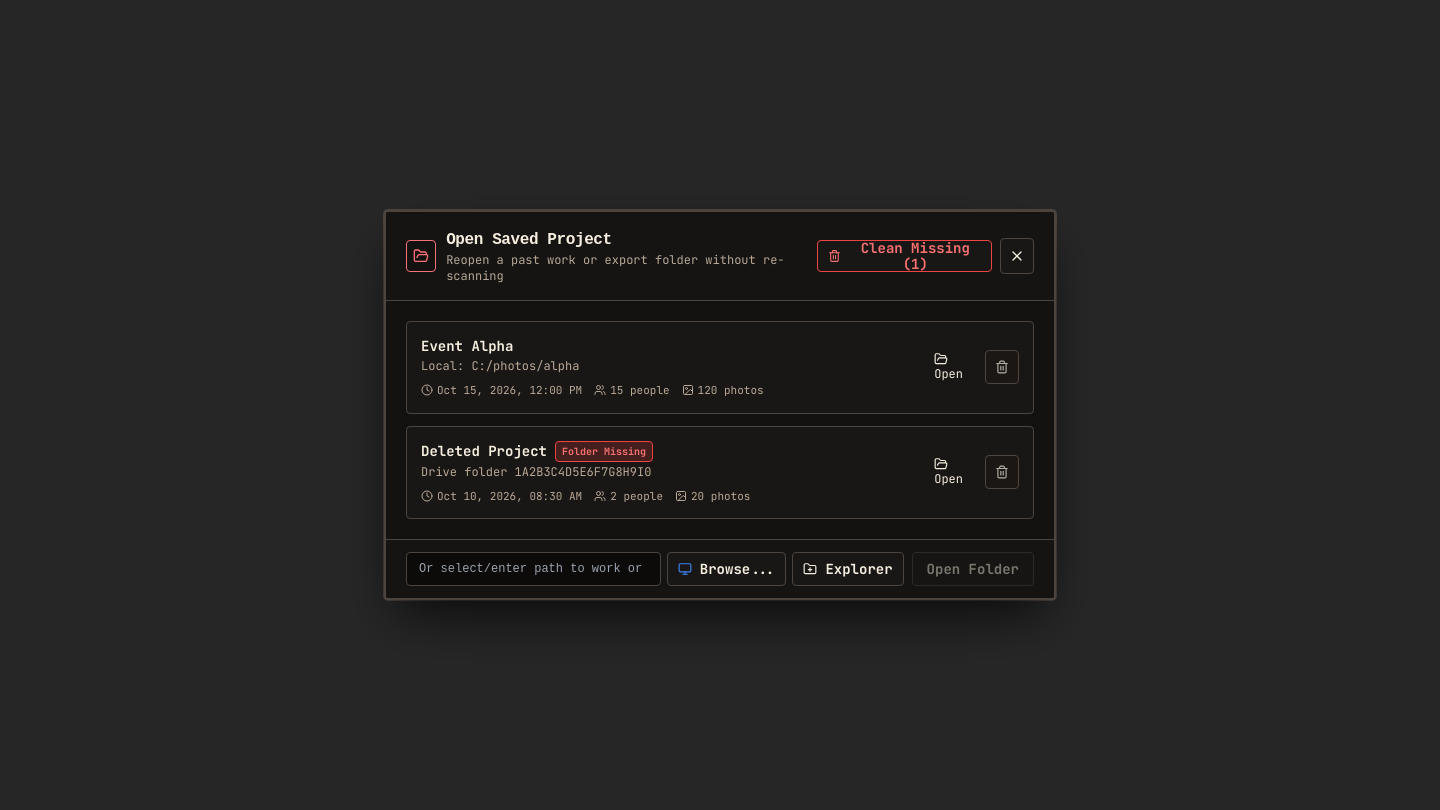
Test: Open Saved Project Feature › blocks opening project while a scan is running (409)
Expected: the text "Event Alpha" is shown, [421,336,513,356]
Step 1. Click the button with test id "open-project-btn-proj_01" → (949, 367), box [920,350,977,384]
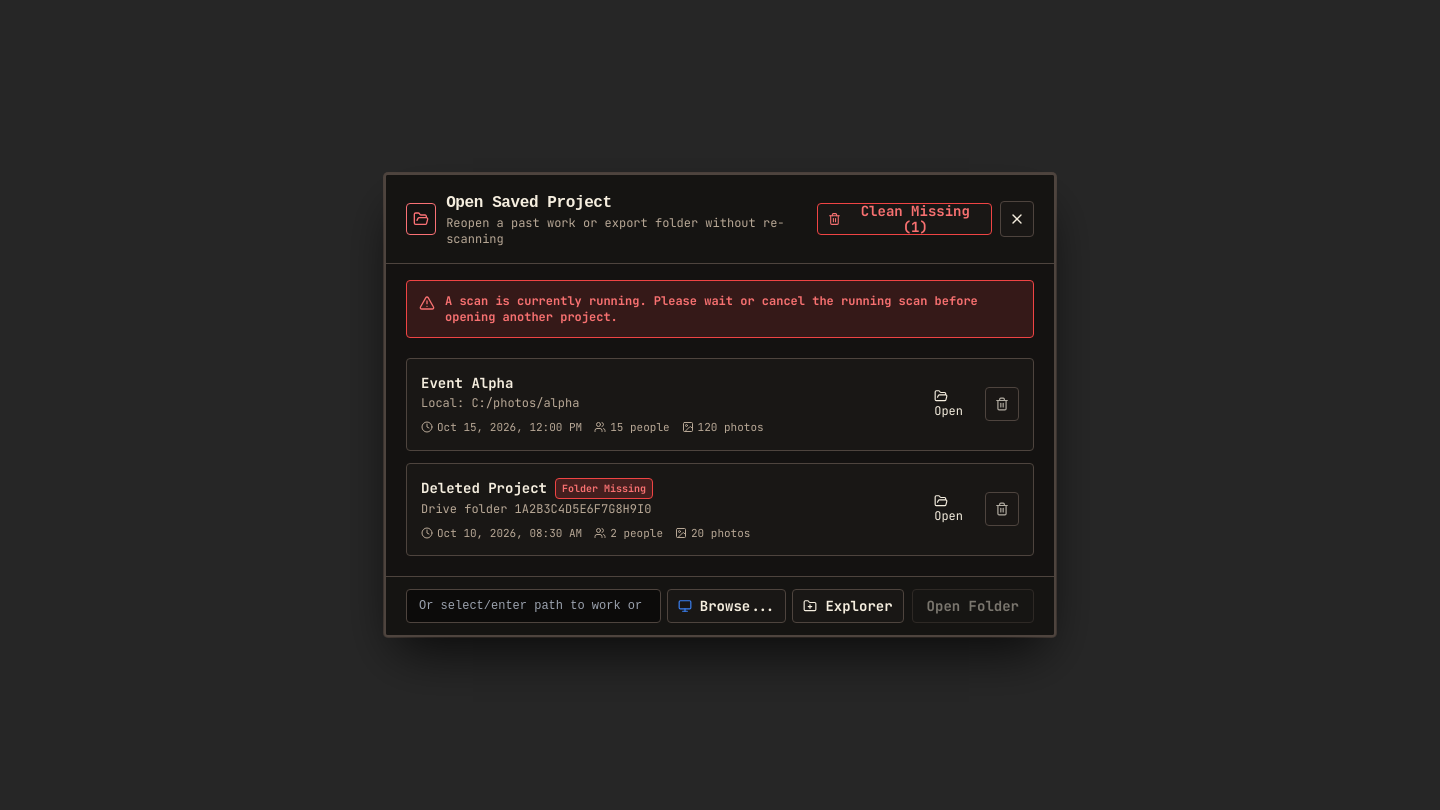
Now the text "A scan is currently running" is shown, box [445,293,978,325]
